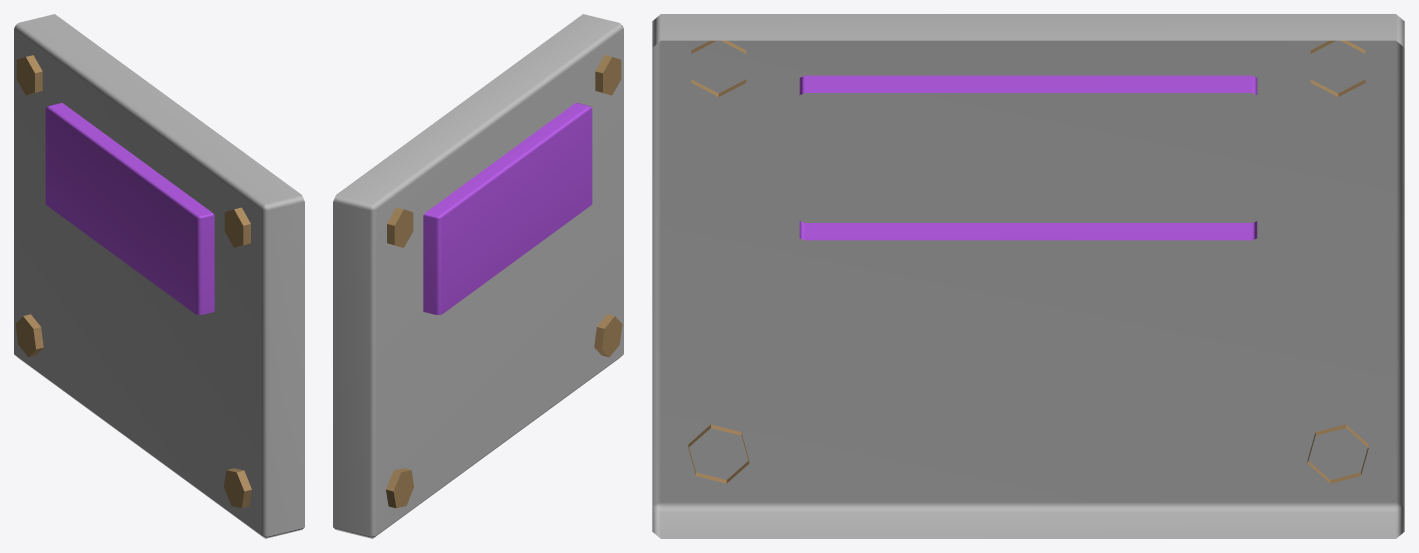
The model's file is Bloc.fbx.
3 renders of one model, left to right at view 1: azimuth 30°, elevation 25°; view 2: azimuth 150°, elevation 25°; view 3: azimuth 270°, elevation 25°, orthographic. The views are drawn at different scales.
Visible parts, largest first — view 1: Cube, Metal, Vise2, Vise, Vise1, Vise3; view 2: Cube, Metal, Vise, Vise2, Vise3, Vise1; view 3: Cube, Metal.
Boxes of the visible parts, left/top/right/bottom form: Cube: left=14, top=14, right=304, bottom=538; Metal: left=45, top=103, right=214, bottom=314; Vise2: left=15, top=314, right=43, bottom=357; Vise: left=224, top=468, right=251, bottom=508; Vise1: left=224, top=207, right=250, bottom=247; Vise3: left=16, top=55, right=42, bottom=95; Cube: left=333, top=14, right=623, bottom=538; Metal: left=423, top=103, right=592, bottom=314; Vise: left=594, top=314, right=622, bottom=357; Vise2: left=386, top=468, right=413, bottom=508; Vise3: left=387, top=207, right=413, bottom=247; Vise1: left=595, top=55, right=621, bottom=95; Cube: left=652, top=14, right=1404, bottom=538; Metal: left=799, top=75, right=1257, bottom=240.
Bounding box in the file's own units: 0.2827 × 1.57 × 2.15.
